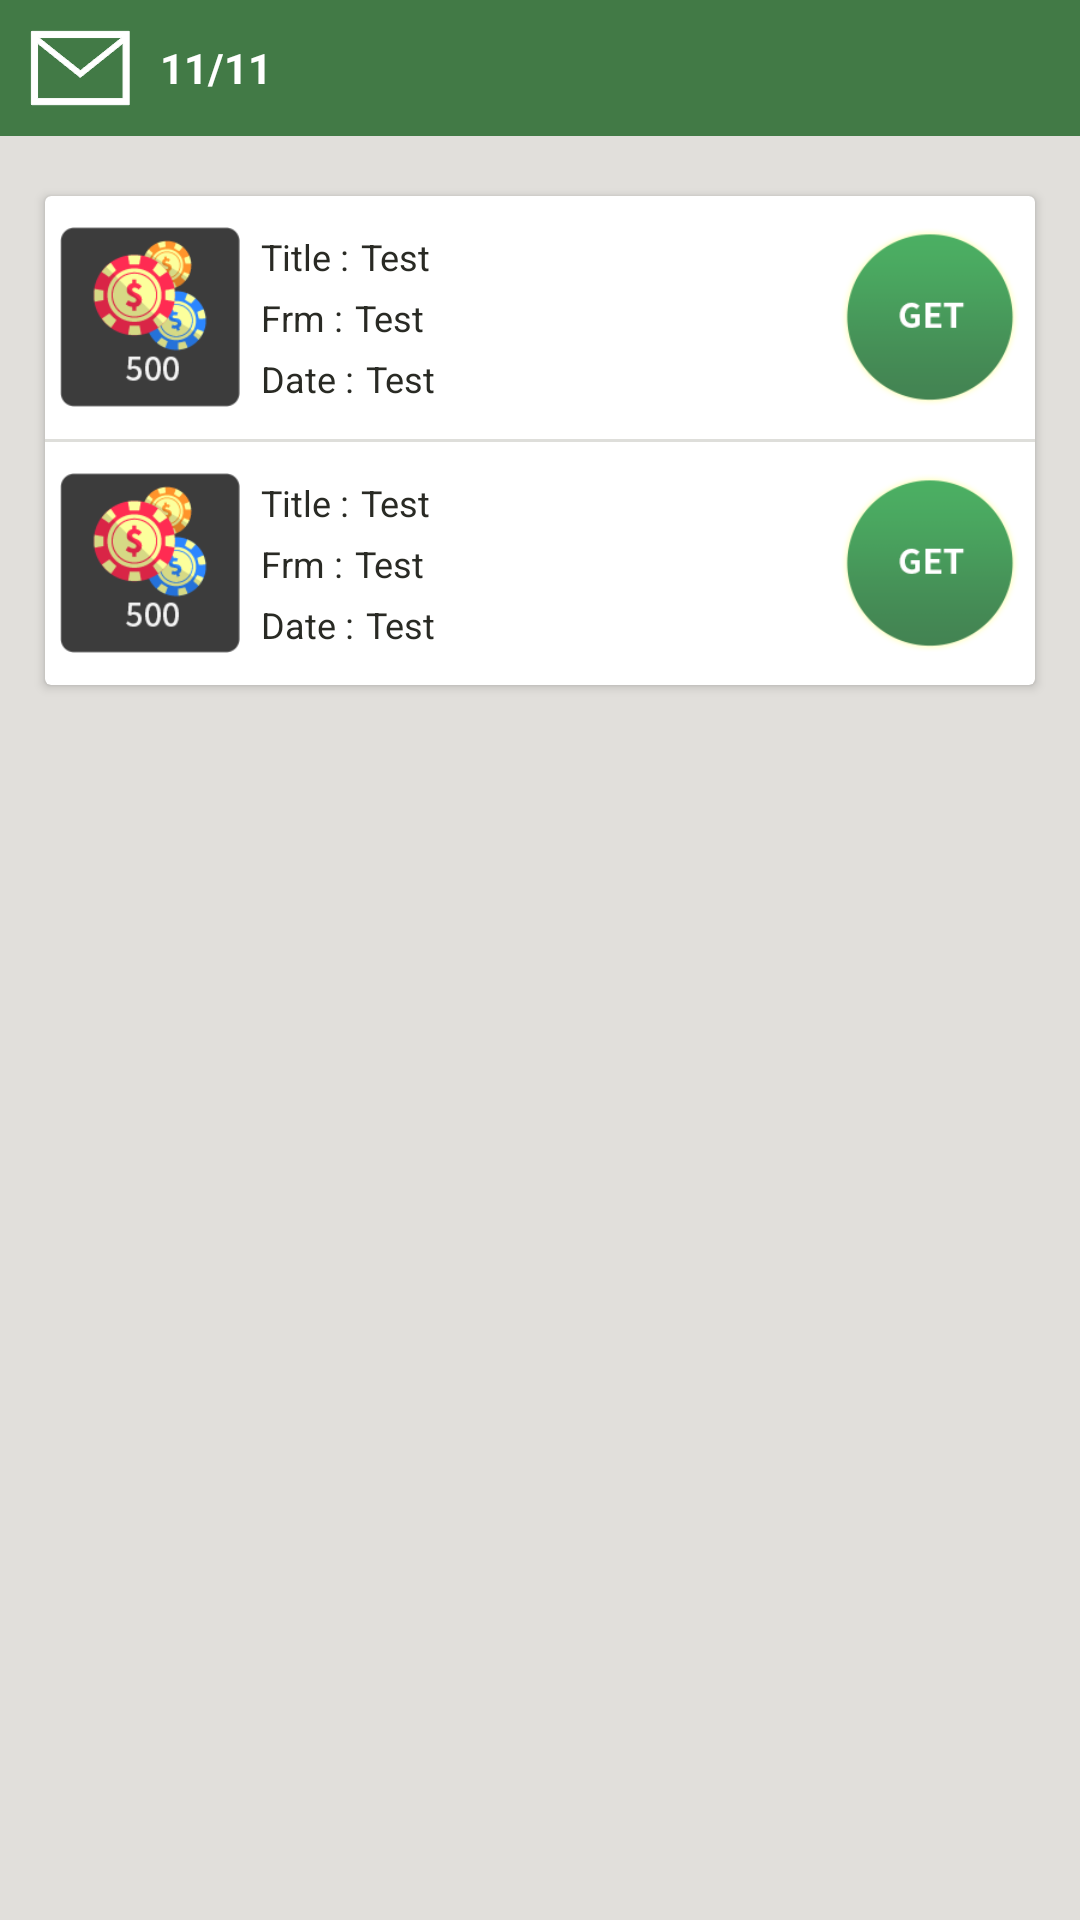

Where icons sit on this 1080w x 1920h app screen, as (x1, y1, x2, y2):
coinicon: (60, 227, 240, 407), (60, 473, 240, 653)
messageicon: (31, 31, 130, 106)
